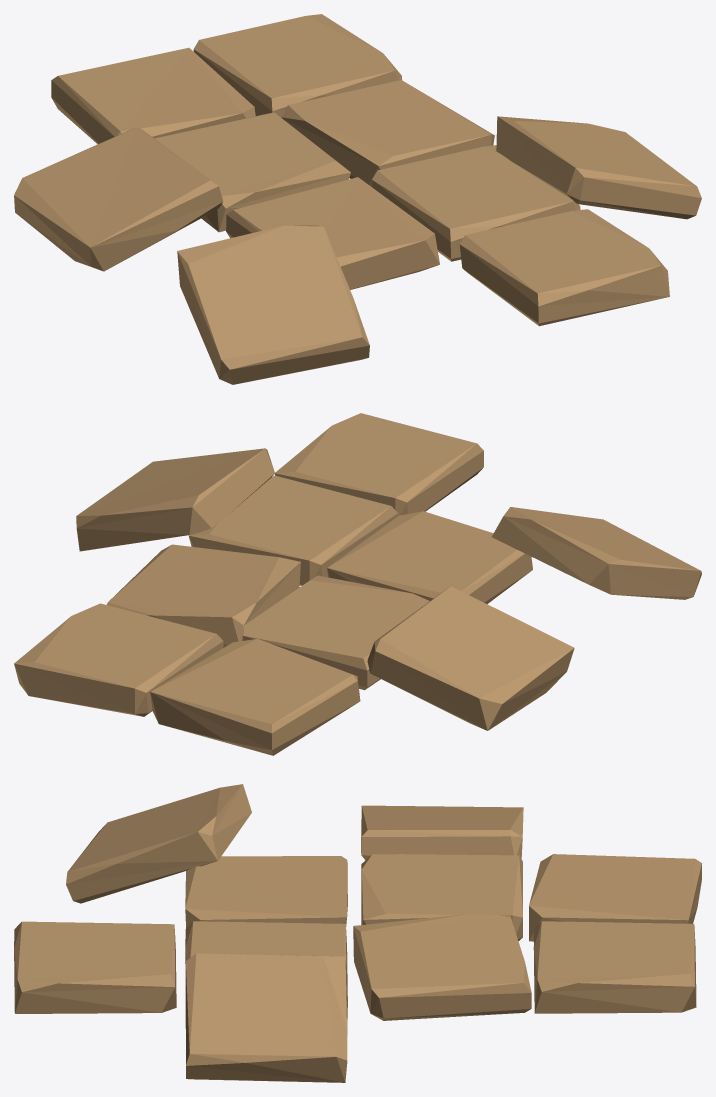
The model's file is SM_floortiles_03.fbx.
The picture shows the model from 3 angles, top to bottom: view 1: azimuth 30°, elevation 25°; view 2: azimuth 150°, elevation 25°; view 3: azimuth 270°, elevation 25°; orthographic projection. The views are drawn at different scales.
Visible parts, largest first — view 1: Object32865; view 2: Object32865; view 3: Object32865.
Part boxes in pixels (bbox=[...]): Object32865: bbox=[14, 14, 701, 384]; Object32865: bbox=[14, 413, 701, 755]; Object32865: bbox=[14, 784, 701, 1082].
Bounding box in the file's own units: 72.39 × 12.51 × 84.19.
